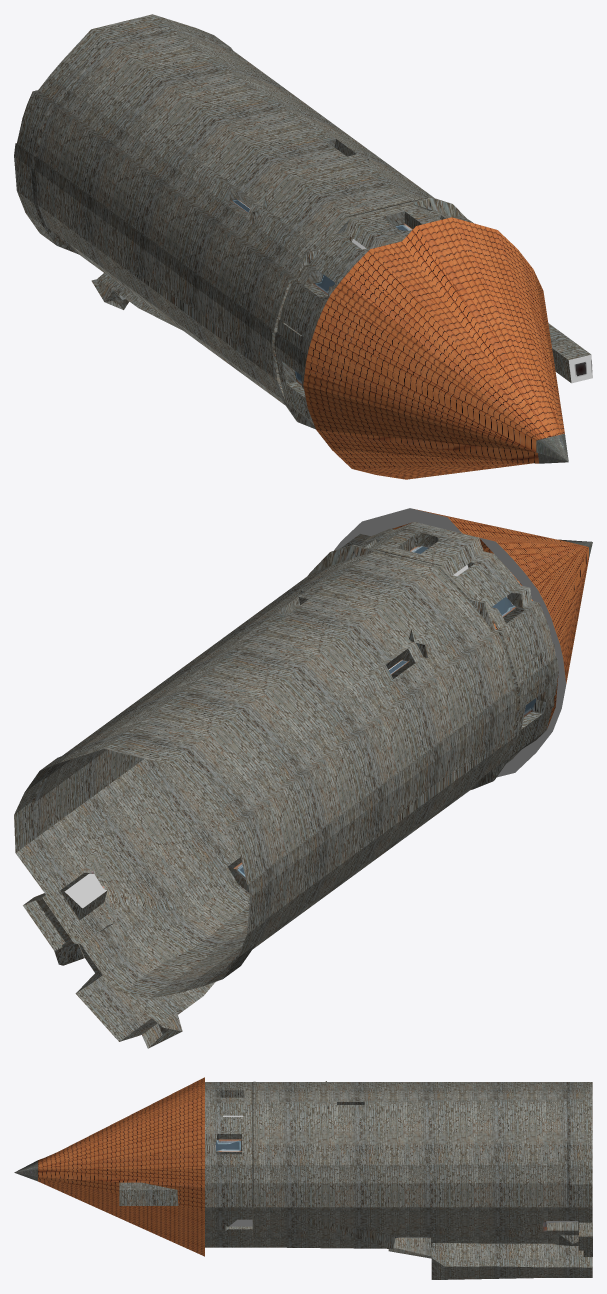
Rendered from Laboratooriumi_29-origo.obj.
3 views of the same model, one above another, from view 1: azimuth 30°, elevation 25°; view 2: azimuth 150°, elevation 25°; view 3: azimuth 270°, elevation 25° (orthographic). The views are drawn at different scales.
Visible parts, largest first — view 1: Laboratooriumi_29; view 2: Laboratooriumi_29; view 3: Laboratooriumi_29.
Part boxes in pixels (bbox=[...]): Laboratooriumi_29: bbox=[14, 14, 592, 479]; Laboratooriumi_29: bbox=[14, 508, 592, 1048]; Laboratooriumi_29: bbox=[14, 1077, 592, 1279].
Size of the model in its own units: 10.56 by 12 by 33.38.
